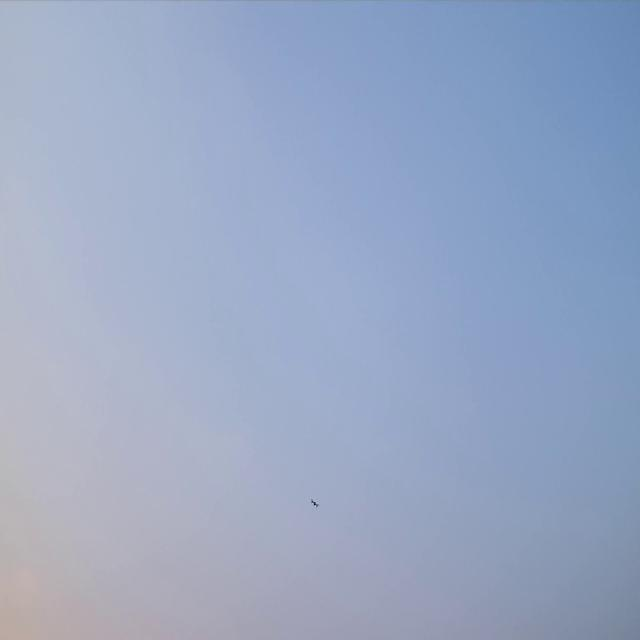UAV: (310, 498, 319, 509)
